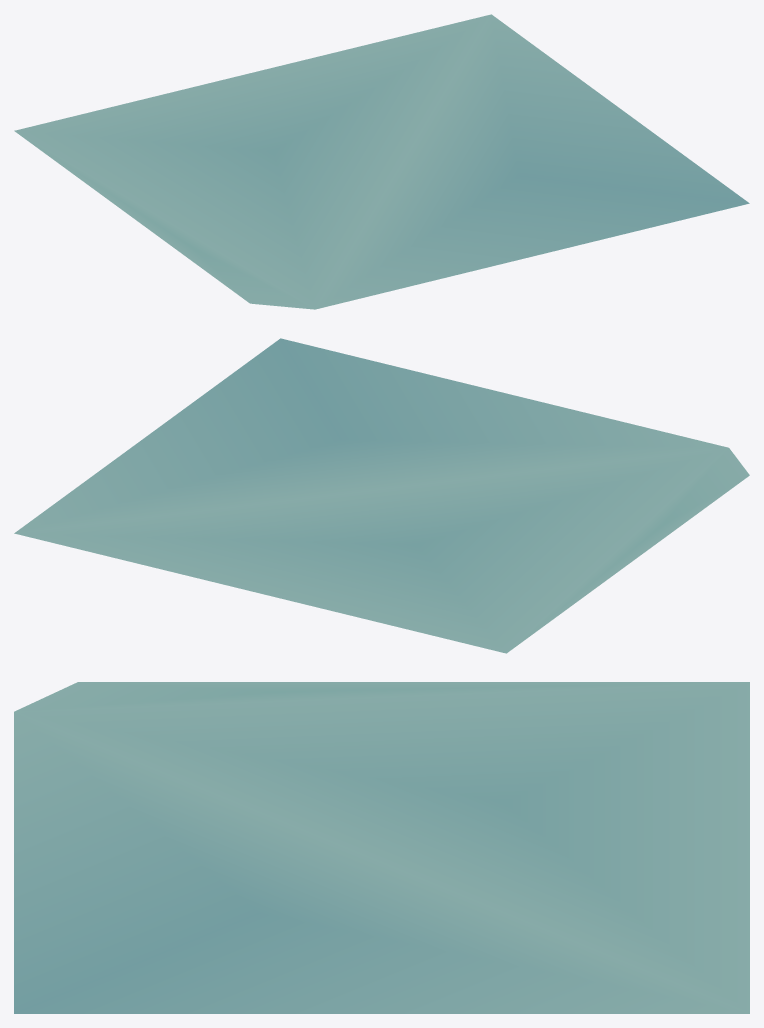
File: water-12-19.glb
The picture shows the model from 3 angles, top to bottom: view 1: azimuth 30°, elevation 25°; view 2: azimuth 150°, elevation 25°; view 3: azimuth 270°, elevation 25°; orthographic projection. The views are drawn at different scales.
Bounding box in the file's own units: 16 × 0 × 15.
